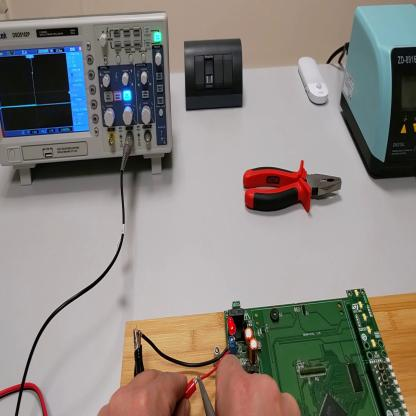hand: (215, 355, 299, 414), (99, 370, 193, 414)
low voltage board: (141, 288, 409, 416)
oscilloscope: (1, 10, 173, 186)
oscilloscope probe tip: (198, 378, 216, 416)
pliers: (243, 159, 343, 216)
welder station: (341, 6, 416, 184)
working area: (123, 295, 415, 416)
